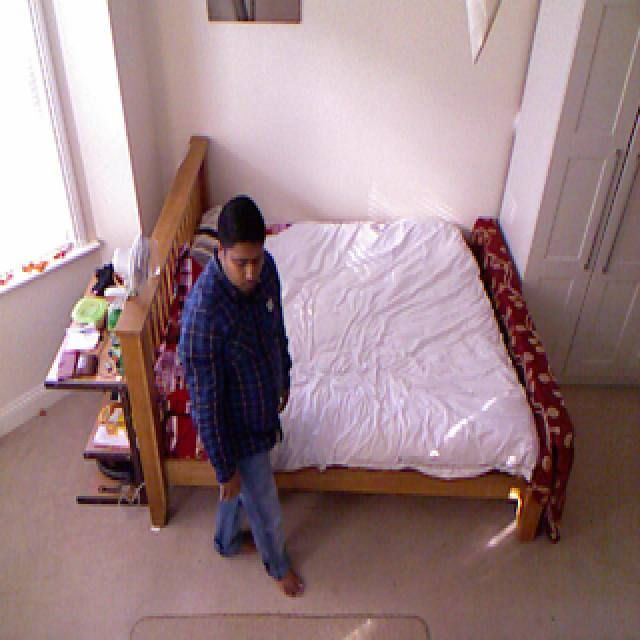standing: (188, 191, 309, 609)
